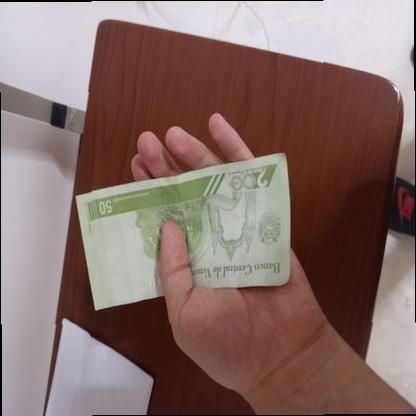fifty-back-vef: (74, 151, 292, 312)
